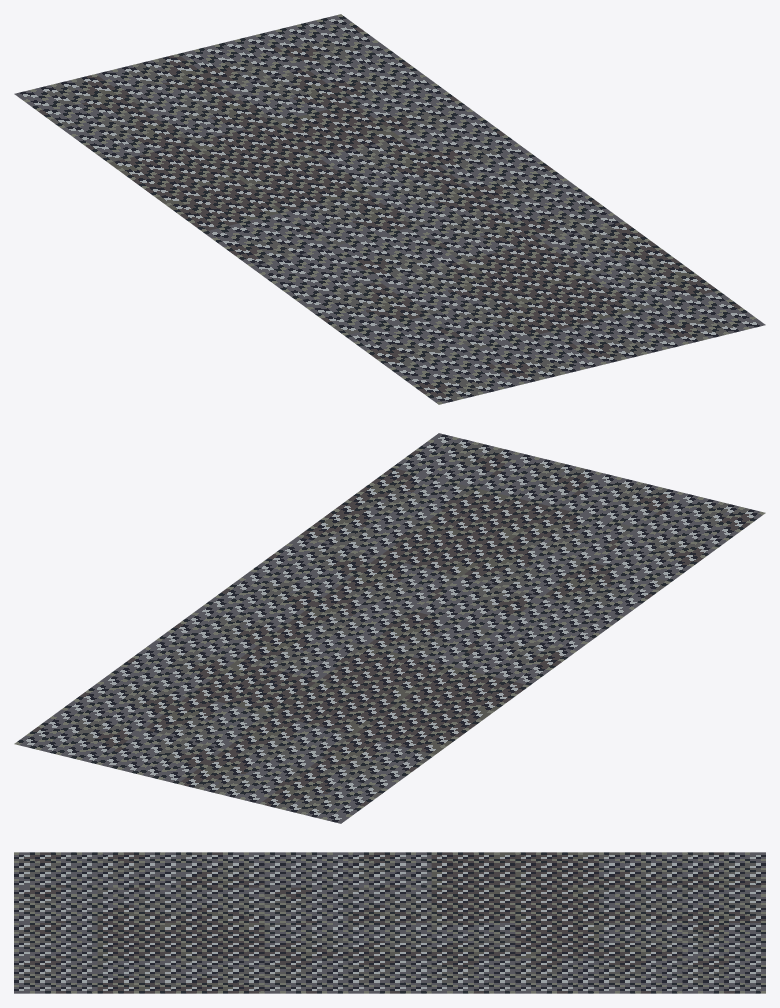
Rendered from Metal_Floor.gltf.
3 views of the same model, one above another, from view 1: azimuth 30°, elevation 25°; view 2: azimuth 150°, elevation 25°; view 3: azimuth 270°, elevation 25° (orthographic). The views are drawn at different scales.
Visible parts, largest first — view 1: Metal Floor; view 2: Metal Floor; view 3: Metal Floor.
Boxes of the visible parts, x1,y1,x2,y2 form: Metal Floor: (14, 14, 765, 404); Metal Floor: (14, 433, 765, 823); Metal Floor: (14, 852, 765, 993).
Size of the model in its own units: 4 by 0 by 9.
Materials: 1 (1 with a texture image).
